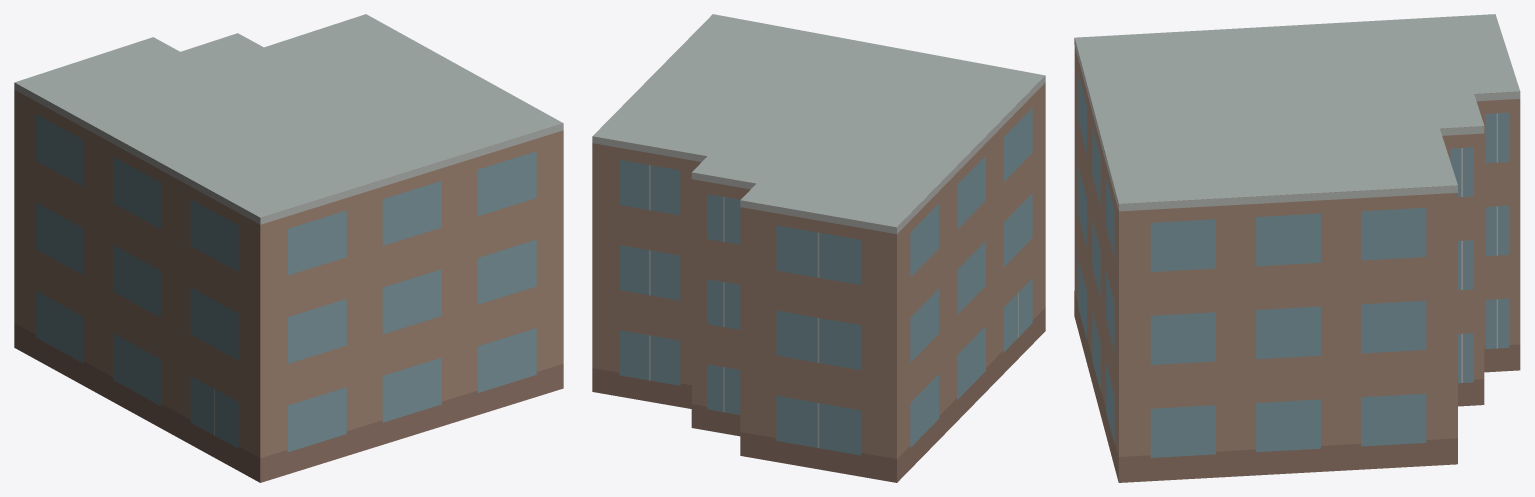
The model's file is survey-upis-32951713.glb.
3 views of the same model, side by side, from view 1: azimuth 30°, elevation 25°; view 2: azimuth 150°, elevation 25°; view 3: azimuth 270°, elevation 25° (orthographic). The views are drawn at different scales.
Visible parts, largest first — view 1: survey-upis-32951713.tmp; view 2: survey-upis-32951713.tmp; view 3: survey-upis-32951713.tmp.
Part boxes in pixels (left/top/right/bottom): survey-upis-32951713.tmp: left=14, top=14, right=563, bottom=482; survey-upis-32951713.tmp: left=592, top=14, right=1045, bottom=482; survey-upis-32951713.tmp: left=1074, top=14, right=1520, bottom=482.
Bounding box in the file's own units: 13.3 × 9.1 × 13.19.
